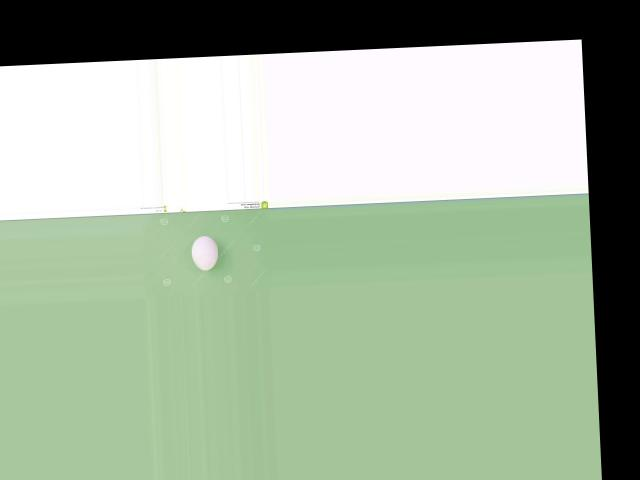egg: (190, 235, 218, 270)
